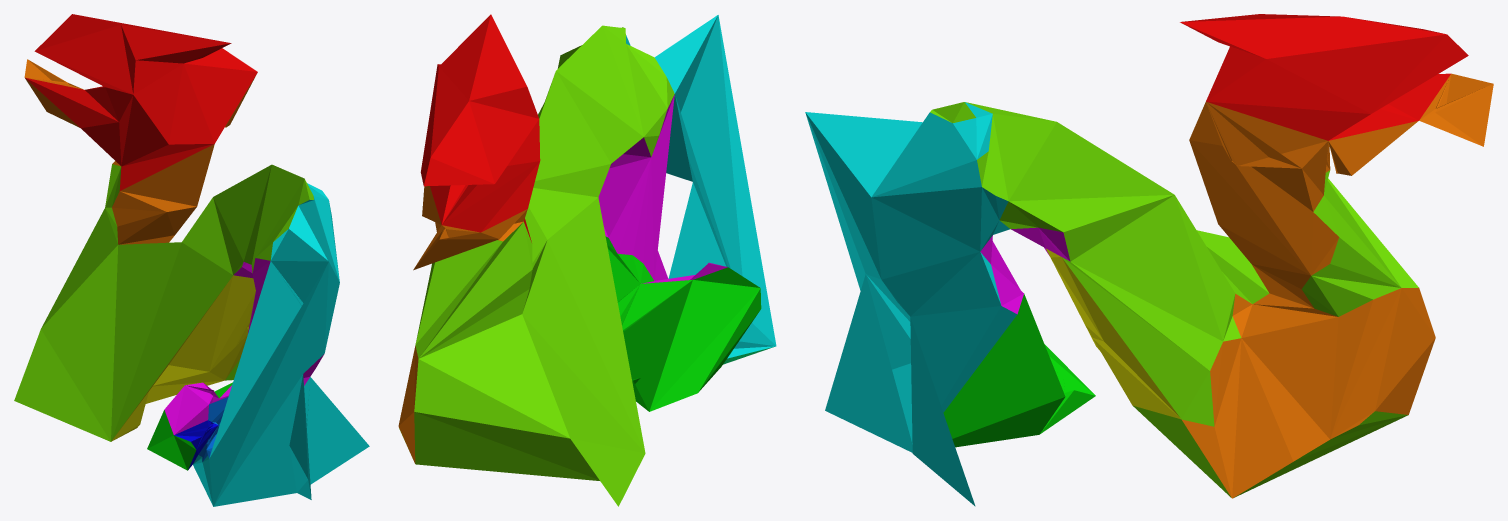
The model's file is Dragon_8K_nanite_LOD4.fbx.
3 renders of one model, left to right at view 1: azimuth 30°, elevation 25°; view 2: azimuth 150°, elevation 25°; view 3: azimuth 270°, elevation 25°, orthographic. The views are drawn at different scales.
Bounding box in the file's own units: 0.411 × 0.6481 × 0.8774.
